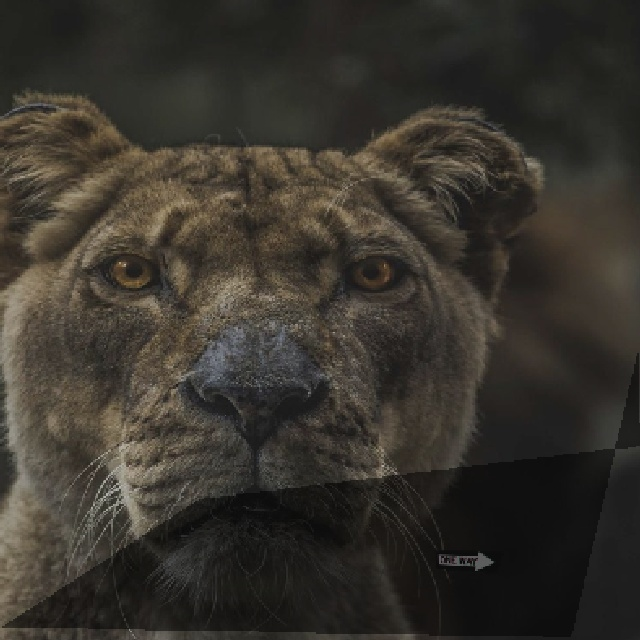ONE_WAY_ right: (433, 548, 502, 572)
